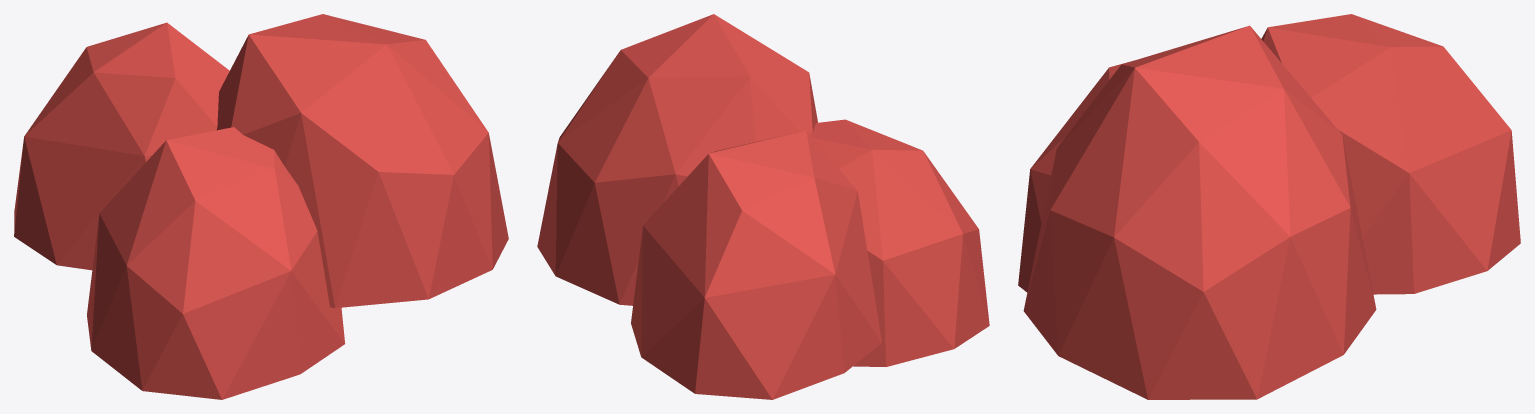
Rendered from Bush_SM.fbx.
3 views of the same model, side by side, from view 1: azimuth 30°, elevation 25°; view 2: azimuth 150°, elevation 25°; view 3: azimuth 270°, elevation 25° (orthographic). The views are drawn at different scales.
Visible parts, largest first — view 1: Bush_SM; view 2: Bush_SM; view 3: Bush_SM.
Part boxes in pixels (x1,y1,x2,y2): Bush_SM: (14,14,508,399); Bush_SM: (537,14,989,399); Bush_SM: (1018,14,1520,399).
Size of the model in its own units: 106 by 68.05 by 102.
